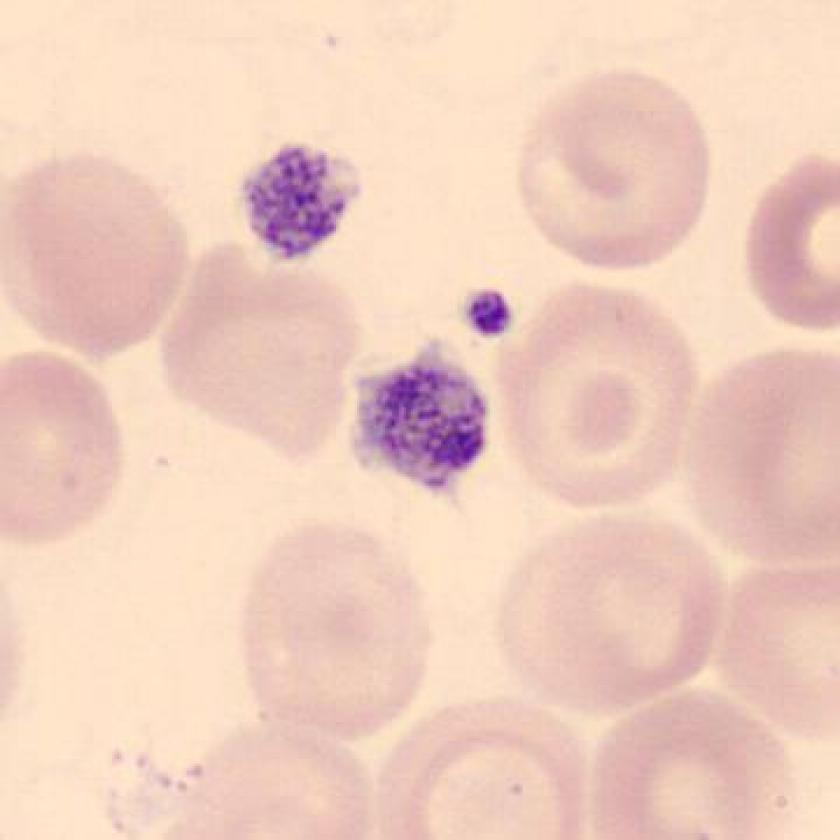platelets: (346, 334, 498, 508), (232, 131, 370, 270), (461, 279, 524, 350)
